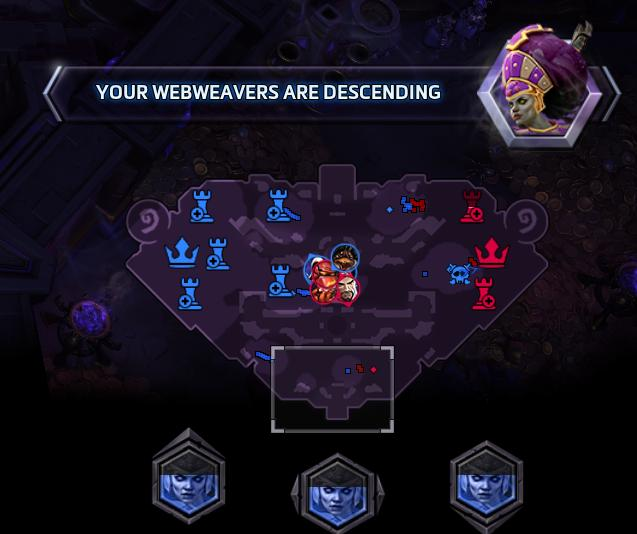blue nexus: (163, 235, 201, 268)
blue player: (303, 254, 337, 288), (329, 243, 359, 274)
blue tower: (264, 186, 301, 223), (266, 262, 294, 297), (176, 275, 203, 310), (188, 188, 215, 223), (204, 236, 231, 270)
red nexus: (473, 236, 509, 268)
red player: (309, 274, 338, 304), (334, 274, 360, 305)
red tower: (470, 275, 496, 310), (459, 188, 484, 223)
